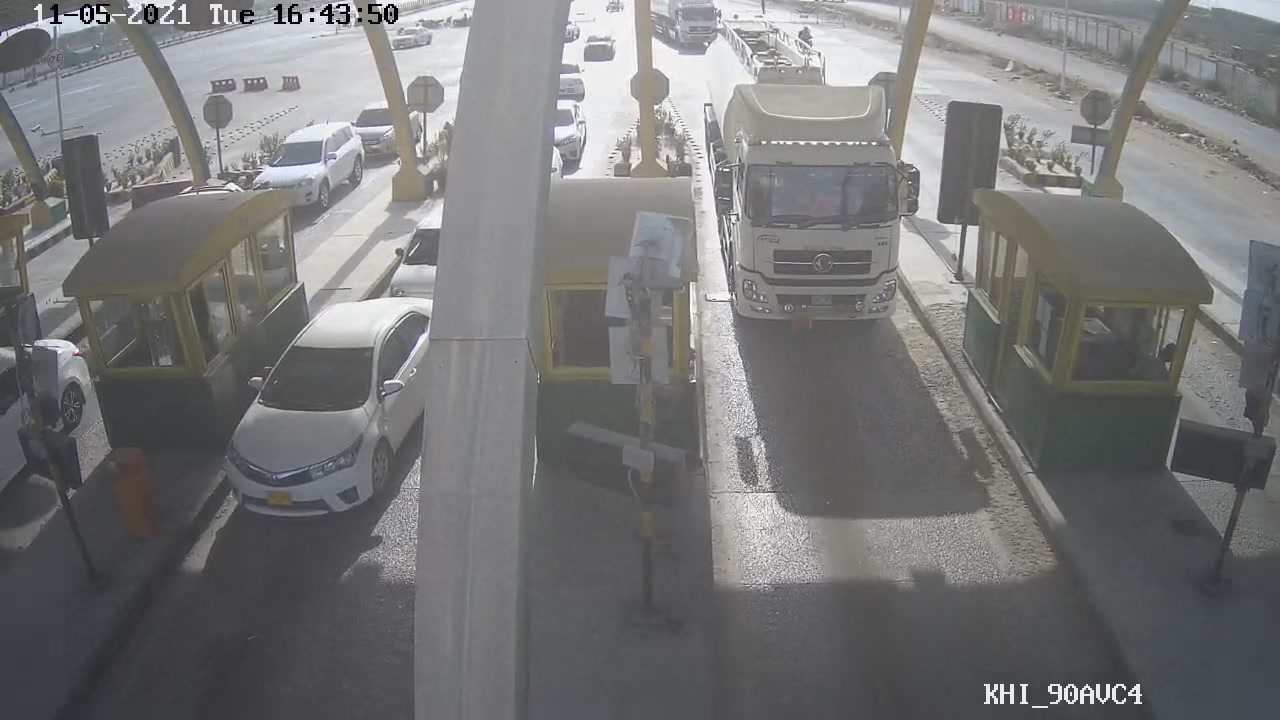F6: (702, 21, 926, 320)
